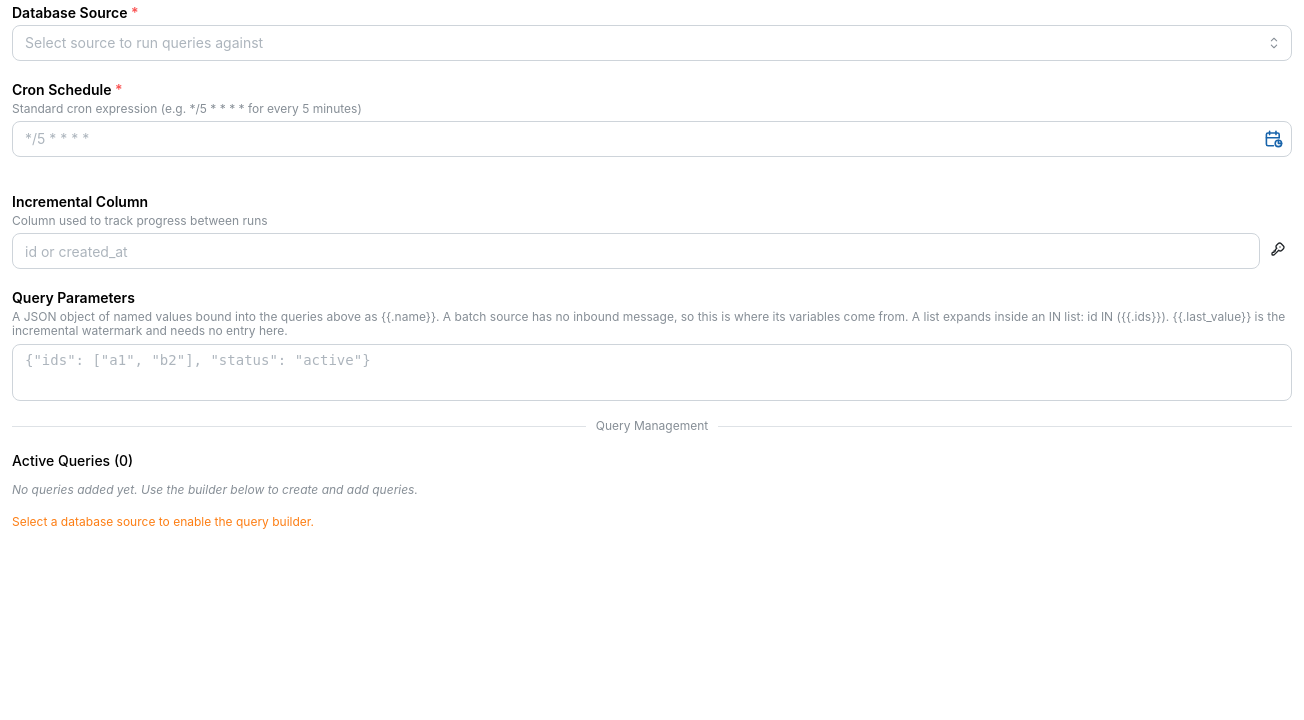
batch_sql delegate picker › says why a CDC delegate cannot be used instead of hiding it
Click the dropdown labelled "Database Source *": [652, 43] box [12,25,1292,61]
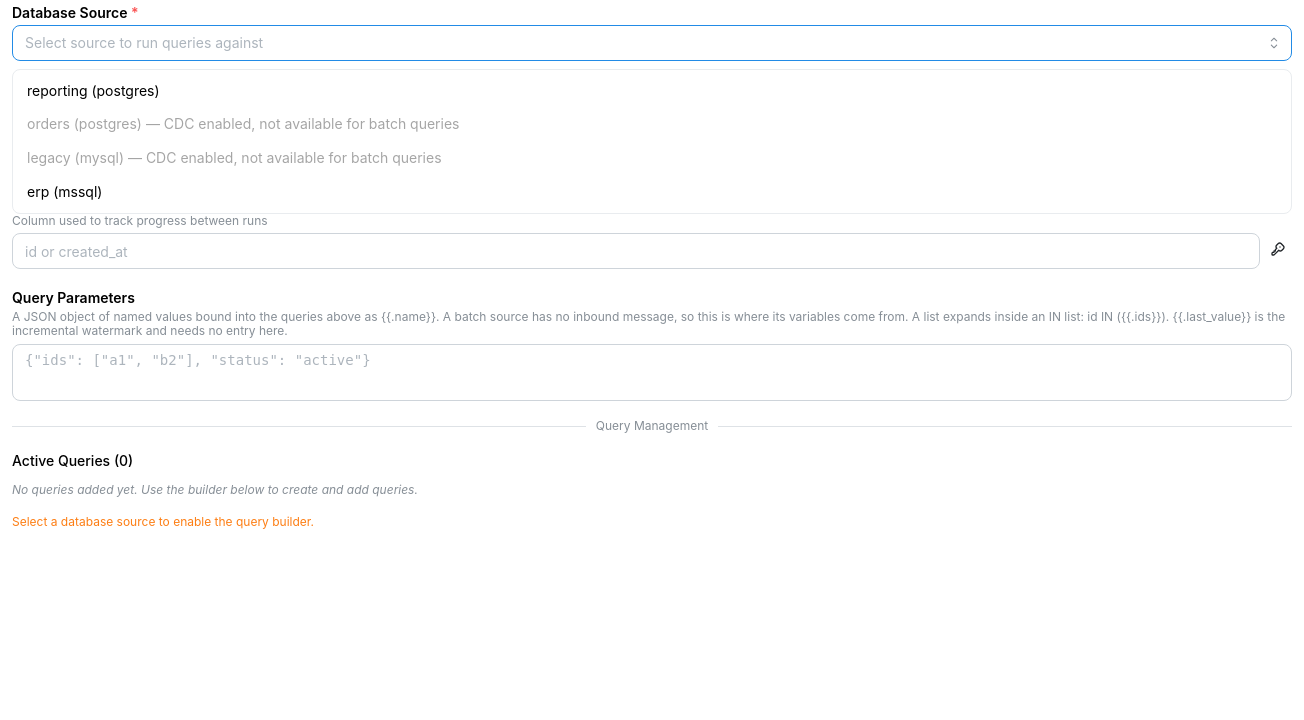
Result: the option "orders" shows "CDC" at [27,116,460,132]
